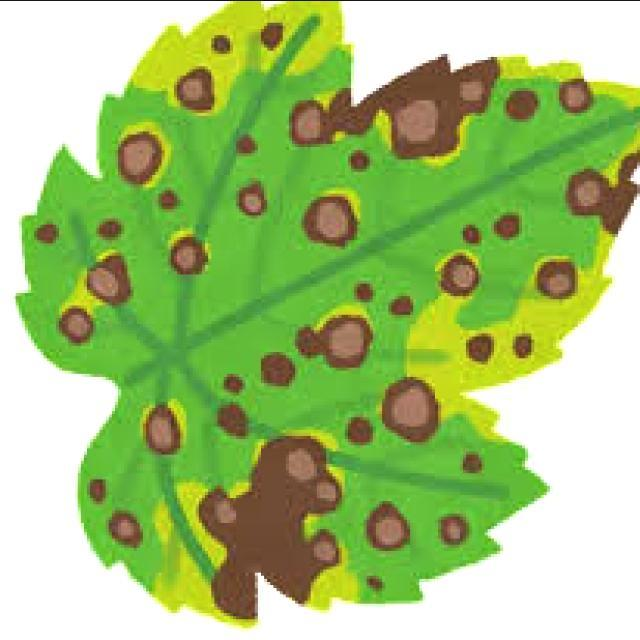leaf: (14, 1, 638, 626)
